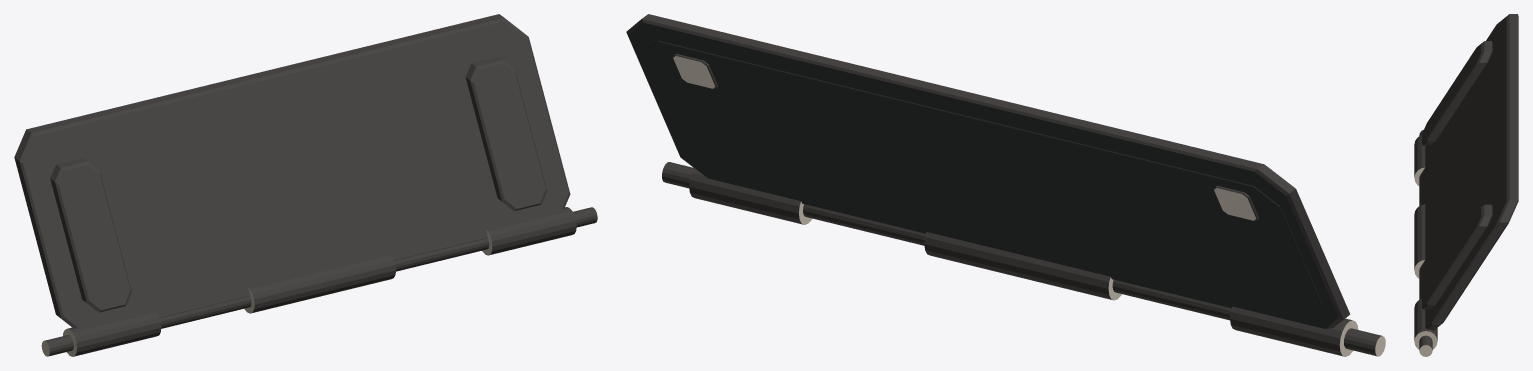
Rendered from SM_SSTO_StairBayCover.fbx.
3 renders of one model, left to right at view 1: azimuth 30°, elevation 25°; view 2: azimuth 150°, elevation 25°; view 3: azimuth 270°, elevation 25°, orthographic. The views are drawn at different scales.
Visible parts, largest first — view 1: SM_SSTO_StairBayCover; view 2: SM_SSTO_StairBayCover; view 3: SM_SSTO_StairBayCover.
Part boxes in pixels (left/top/right/bottom): SM_SSTO_StairBayCover: left=14, top=14, right=597, bottom=356; SM_SSTO_StairBayCover: left=626, top=14, right=1385, bottom=356; SM_SSTO_StairBayCover: left=1414, top=14, right=1518, bottom=356.
Size of the model in its own units: 1.82 by 0.372 by 0.5765.
